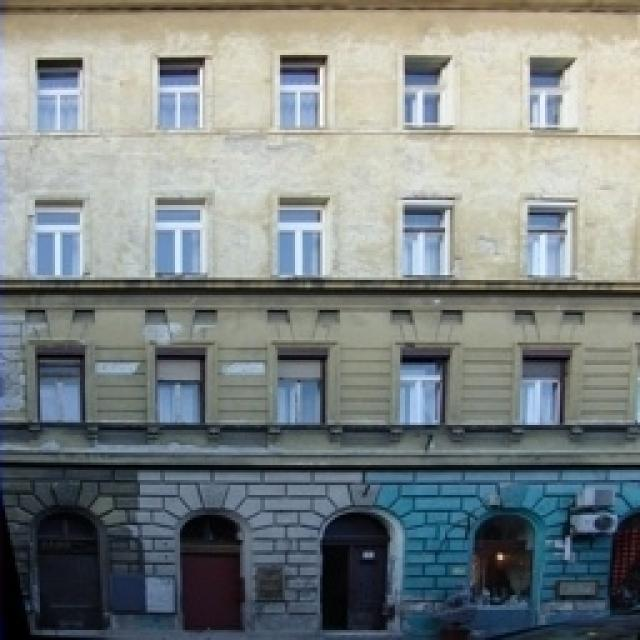Window: (475, 528, 530, 598), (277, 358, 325, 422), (158, 210, 202, 272), (38, 210, 80, 272), (157, 360, 200, 420), (282, 210, 322, 272), (40, 358, 80, 420), (530, 210, 568, 275), (402, 362, 442, 422), (160, 70, 198, 128), (42, 70, 80, 128), (524, 358, 558, 422), (408, 212, 442, 272), (282, 70, 320, 122), (532, 72, 566, 126), (408, 75, 438, 120)
